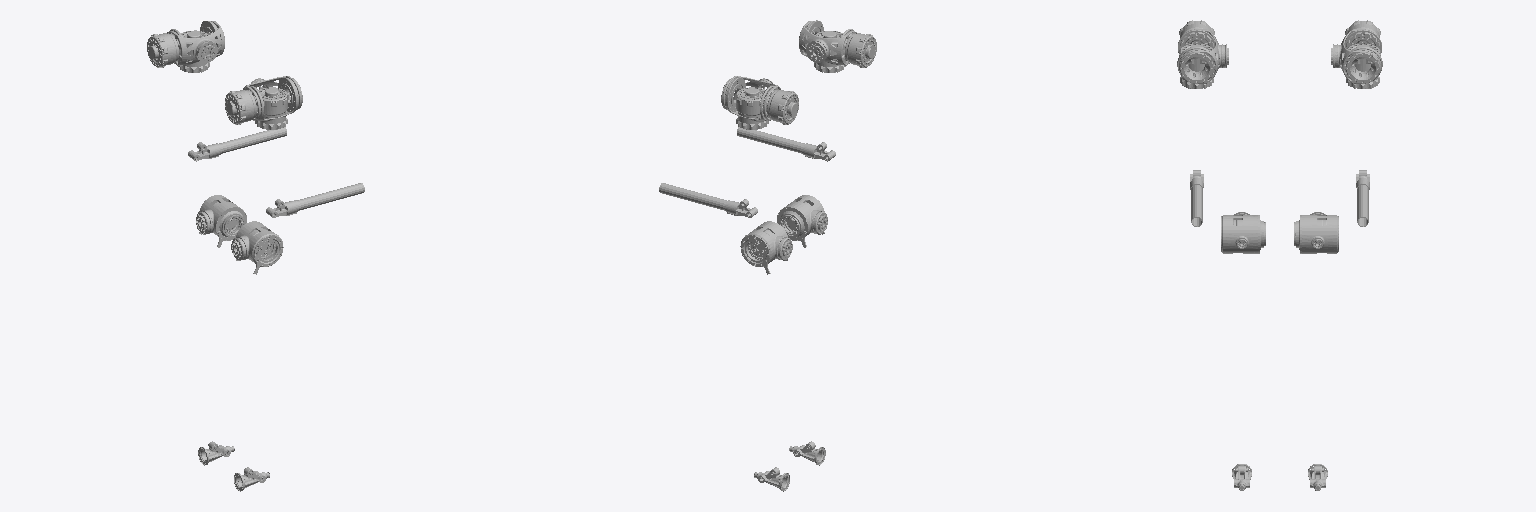
URDF robot description (bhr8_fc2):
<?xml version="1.0" encoding="utf-8"?>
<robot name="bhr8_fc2">
  <mujoco>
    <compiler meshdir="../meshes" balanceinertia="true" discardvisual="true" />
  </mujoco>
  <link name="torso">
    <inertial>
      <origin xyz="-0.012982 0.001904 0.240391" rpy="0 0 0" />
      <mass value="24.091719" />
      <inertia ixx="0.717329" ixy="0.001910" ixz="-0.031575" iyy="0.608806" iyz="0.004632" izz="0.242843" />
    </inertial>
    <visual>
      <origin xyz="0 0 0" rpy="0 0 0" />
      <geometry>
        <mesh filename="../meshes/torso.stl" />
      </geometry>
      <material name="">
        <color rgba="0.752941176470588 0.752941176470588 0.752941176470588 1" />
      </material>
    </visual>
    <collision>
      <origin xyz="0 0 0.25" rpy="0 0 0" />
      <geometry>
          <box size="0.3 0.28 0.56"/>
      </geometry>
    </collision>
  </link>
  <link name="rhip1">
    <inertial>
      <origin xyz="-0.078509 -0.0 -0.118031" rpy="0 0 0" />
      <mass value="2.589579" />
      <inertia ixx="0.006148" ixy="0.000001" ixz="0.003865" iyy="0.011987" iyz="0.000000" izz="0.008234" />
    </inertial>
    <visual>
      <origin xyz="0 0 0" rpy="0 0 0" />
      <geometry>
        <mesh filename="../meshes/rhip1.stl" />
      </geometry>
      <material name="">
        <color rgba="0.752941176470588 0.752941176470588 0.752941176470588 1" />
      </material>
    </visual>
    <!-- <collision> -->
    <!--   <origin xyz="-0.11 0 -0.14" rpy="0 1.57 0" /> -->
    <!--   <geometry> -->
    <!--     <cylinder radius="0.05" length="0.06"/> -->
    <!--   </geometry> -->
    <!-- </collision> -->
  </link>
  <joint name="rhipYaw" type="revolute">
    <origin xyz="0 -0.1 0.02324" rpy="0 0 0" />
    <parent link="torso" />
    <child link="rhip1" />
    <axis xyz="0 0 1" />
    <limit effort="100.0" velocity="100.0" lower="-3.14" upper="3.14"/>
  </joint>
  <link name="rhip2">
    <inertial>
      <origin xyz="0.051206 -0.002730 -0.000288" rpy="0 0 0" />
      <mass value="2.707088" />
      <inertia ixx="0.003451" ixy="-0.000024" ixz="0.000023" iyy="0.003613" iyz="0.000002" izz="0.004041" />
    </inertial>
    <visual>
      <origin xyz="0 0 0" rpy="0 0 0" />
      <geometry>
        <mesh filename="../meshes/rhip2.stl" />
      </geometry>
      <material name="">
        <color rgba="0.752941176470588 0.752941176470588 0.752941176470588 1" />
      </material>
    </visual>
    <!-- <collision> -->
    <!--   <origin xyz="0.05 0 0" rpy="1.57 0 0" /> -->
    <!--   <geometry> -->
    <!--    <cylinder radius="0.05" length="0.08"/> -->
    <!--   </geometry> -->
    <!-- </collision> -->
  </link>
  <joint name="rhipRoll" type="revolute">
    <origin xyz="-0.054 0 -0.13924" rpy="0 0 0" />
    <parent link="rhip1" />
    <child link="rhip2" />
    <axis xyz="1 0 0" />
    <limit effort="100.0" velocity="100.0" lower="-3.14" upper="3.14"/>
  </joint>
  <link name="rthigh">
    <inertial>
      <origin xyz="0.005701 -0.002335 -0.170006" rpy="0 0 0" />
      <mass value="3.596463" />
      <inertia ixx="0.043059" ixy="0.000136" ixz="0.000276" iyy="0.040946" iyz="-0.000548" izz="0.005837" />
    </inertial>
    <visual>
      <origin xyz="0 0 0" rpy="0 0 0" />
      <geometry>
        <mesh filename="../meshes/rthigh.stl" />
      </geometry>
      <material name="">
        <color rgba="0.752941176470588 0.752941176470588 0.752941176470588 1" />
      </material>
    </visual>
    <!-- <collision> -->
    <!--   <origin xyz="0 0 -0.23" rpy="0 0 0" /> -->
    <!--   <geometry> -->
    <!--     <box size="0.10 0.10 0.32"/> -->
    <!--   </geometry> -->
    <!-- </collision> -->
  </link>
  <joint name="rhipPitch" type="revolute">
    <origin xyz="0.055 -0.0001 0" rpy="0 0 0" />
    <parent link="rhip2" />
    <child link="rthigh" />
    <axis xyz="0 1 0" />
    <limit effort="100.0" velocity="100.0" lower="-3.14" upper="3.14"/>
  </joint>
  <link name="rcalf">
    <inertial>
      <origin xyz="0.003761 0.0 -0.143175" rpy="0 0 0" />
      <mass value="2.514266" />
      <inertia ixx="0.017616" ixy="0.000003" ixz="0.000476" iyy="0.017018" iyz="-0.000020" izz="0.002115" />
    </inertial>
    <visual>
      <origin xyz="0 0 0" rpy="0 0 0" />
      <geometry>
        <mesh filename="../meshes/rcalf.stl" />
      </geometry>
      <material name="">
        <color rgba="0.752941176470588 0.752941176470588 0.752941176470588 1" />
      </material>
    </visual>
    <!-- <collision> -->
    <!--   <origin xyz="0 0 -0.18" rpy="0 0 0" /> -->
    <!--   <geometry> -->
    <!--     <box size="0.08 0.08 0.20"/> -->
    <!--   </geometry> -->
    <!-- </collision> -->
  </link>
  <joint name="rknee" type="revolute">
    <origin xyz="0 0 -0.375" rpy="0 0 0" />
    <parent link="rthigh" />
    <child link="rcalf" />
    <axis xyz="0 1 0" />
    <limit effort="100.0" velocity="100.0" lower="-3.14" upper="3.14"/>
  </joint>
  <link name="rankle">
    <inertial>
      <origin xyz="-0.025377 0.000124 0.003585" rpy="0 0 0" />
      <mass value="0.139581" />
      <inertia ixx="0.000040" ixy="0.000000" ixz="-0.000004" iyy="0.000117" iyz="0.000000" izz="0.000111" />
    </inertial>
    <visual>
      <origin xyz="0 0 0" rpy="0 0 0" />
      <geometry>
        <mesh filename="../meshes/rankle.stl" />
      </geometry>
      <material name="">
        <color rgba="0.752941176470588 0.752941176470588 0.752941176470588 1" />
      </material>
    </visual>
    <!-- <collision>
      <origin xyz="-0.019 0 0" rpy="0 1.57 0" />
      <geometry>
        <cylinder radius="0.010" length="0.060"/>
      </geometry>
    </collision> -->
  </link>
  <joint name="rankle1" type="revolute">
    <origin xyz="0 0 -0.35" rpy="0 0 0" />
    <parent link="rcalf" />
    <child link="rankle" />
    <axis xyz="0 1 0" />
    <limit effort="100.0" velocity="100.0" lower="-3.14" upper="3.14"/>
  </joint>
  <link name="rfoot">
    <inertial>
      <origin xyz="-0.016884 0.000166 -0.054343" rpy="0 0 0" />
      <mass value="1.504448" />
      <inertia ixx="0.001293" ixy="0.000029" ixz="-0.000704" iyy="0.006196" iyz="0.000001" izz="0.006430" />
    </inertial>
    <visual>
      <origin xyz="0 0 0" rpy="0 0 0" />
      <geometry>
        <mesh filename="../meshes/rfoot.stl" />
      </geometry>
      <material name="">
        <color rgba="0.752941176470588 0.752941176470588 0.752941176470588 1" />
      </material>
    </visual>
    <!-- <collision>
      <origin xyz="-0.10 0.045 -0.078" rpy="0 0 0"/>
      <geometry>
        <sphere radius="0.007"/>
      </geometry>
    </collision>
    <collision>
      <origin xyz="-0.10 -0.045 -0.078" rpy="0 0 0"/>
      <geometry>
        <sphere radius="0.007"/>
      </geometry>
    </collision>
    <collision>
      <origin xyz="0.128 0.045 -0.078" rpy="0 0 0"/>
      <geometry>
        <sphere radius="0.007"/>
      </geometry>
    </collision>
    <collision>
      <origin xyz="0.128 -0.045 -0.078" rpy="0 0 0"/>
      <geometry>
        <sphere radius="0.007"/>
      </geometry>
    </collision> -->
    <collision>
      <origin xyz="0 0 0" rpy="0 0 0" />
      <geometry>
        <mesh filename="../meshes/rfoot.stl" />
      </geometry>
    </collision>
  </link>
  <joint name="rankle2" type="revolute">
    <origin xyz="0.031 0 0" rpy="0 0 0" />
    <parent link="rankle" />
    <child link="rfoot" />
    <axis xyz="1 0 0" />
    <limit effort="100.0" velocity="100.0" lower="-3.14" upper="3.14"/>
  </joint>
  <link name="lhip1">
    <inertial>
      <origin xyz="-0.078509 -0.0 -0.118031" rpy="0 0 0" />
      <mass value="2.589579" />
      <inertia ixx="0.006148" ixy="0.000001" ixz="0.003865" iyy="0.011987" iyz="0.000000" izz="0.008234" />
    </inertial>
    <visual>
      <origin xyz="0 0 0" rpy="0 0 0" />
      <geometry>
        <mesh filename="../meshes/lhip1.stl" />
      </geometry>
      <material name="">
        <color rgba="0.752941176470588 0.752941176470588 0.752941176470588 1" />
      </material>
    </visual>
    <!-- <collision> -->
    <!--   <origin xyz="-0.11 0 -0.14" rpy="0 1.57 0" /> -->
    <!--   <geometry> -->
    <!--     <cylinder radius="0.05" length="0.06"/> -->
    <!--   </geometry> -->
    <!-- </collision> -->
  </link>
  <joint name="lhipYaw" type="revolute">
    <origin xyz="0 0.1 0.02324" rpy="0 0 0" />
    <parent link="torso" />
    <child link="lhip1" />
    <axis xyz="0 0 1" />
    <limit effort="100.0" velocity="100.0" lower="-3.14" upper="3.14"/>
  </joint>
  <link name="lhip2">
    <inertial>
      <origin xyz="0.051206 0.002733 -0.000280" rpy="0 0 0" />
      <mass value="2.707222" />
      <inertia ixx="0.003451" ixy="0.000024" ixz="0.000023" iyy="0.003613" iyz="-0.000003" izz="0.004041" />
    </inertial>
    <visual>
      <origin xyz="0 0 0" rpy="0 0 0" />
      <geometry>
        <mesh filename="../meshes/lhip2.stl" />
      </geometry>
      <material name="">
        <color rgba="0.752941176470588 0.752941176470588 0.752941176470588 1" />
      </material>
    </visual>
    <!-- <collision> -->
    <!--   <origin xyz="0.05 0 0" rpy="1.57 0 0" /> -->
    <!--   <geometry> -->
    <!--    <cylinder radius="0.05" length="0.08"/> -->
    <!--   </geometry> -->
    <!-- </collision> -->
  </link>
  <joint name="lhipRoll" type="revolute">
    <origin xyz="-0.054 0 -0.13924" rpy="0 0 0" />
    <parent link="lhip1" />
    <child link="lhip2" />
    <axis xyz="1 0 0" />
    <limit effort="100.0" velocity="100.0" lower="-3.14" upper="3.14"/>
  </joint>
  <link name="lthigh">
    <inertial>
      <origin xyz="0.004804 0.002343 -0.169952" rpy="0 0 0" />
      <mass value="3.596463" />
      <inertia ixx="0.043050" ixy="-0.000129" ixz="0.000379" iyy="0.040839" iyz="0.000543" izz="0.005739" />
    </inertial>
    <visual>
      <origin xyz="0 0 0" rpy="0 0 0" />
      <geometry>
        <mesh filename="../meshes/lthigh.stl" />
      </geometry>
      <material name="">
        <color rgba="0.752941176470588 0.752941176470588 0.752941176470588 1" />
      </material>
    </visual>
    <!-- <collision> -->
    <!--   <origin xyz="0 0 -0.23" rpy="0 0 0" /> -->
    <!--   <geometry> -->
    <!--     <box size="0.10 0.10 0.32"/> -->
    <!--   </geometry> -->
    <!-- </collision> -->
  </link>
  <joint name="lhipPitch" type="revolute">
    <origin xyz="0.055 0.0 0" rpy="0 0 0" />
    <parent link="lhip2" />
    <child link="lthigh" />
    <axis xyz="0 1 0" />
    <limit effort="100.0" velocity="100.0" lower="-3.14" upper="3.14"/>
  </joint>
  <link name="lcalf">
    <inertial>
      <origin xyz="0.003757 -0.000290 -0.143175" rpy="0 0 0" />
      <mass value="2.514266" />
      <inertia ixx="0.017616" ixy="0.000000" ixz="0.000476" iyy="0.017019" iyz="0.000022" izz="0.002115" />
    </inertial>
    <visual>
      <origin xyz="0 0 0" rpy="0 0 0" />
      <geometry>
        <mesh filename="../meshes/lcalf.stl" />
      </geometry>
      <material name="">
        <color rgba="0.752941176470588 0.752941176470588 0.752941176470588 1" />
      </material>
    </visual>
    <!-- <collision> -->
    <!--   <origin xyz="0 0 -0.18" rpy="0 0 0" /> -->
    <!--   <geometry> -->
    <!--     <box size="0.08 0.08 0.20"/> -->
    <!--   </geometry> -->
    <!-- </collision> -->
  </link>
  <joint name="lknee" type="revolute">
    <origin xyz="0 0 -0.375" rpy="0 0 0" />
    <parent link="lthigh" />
    <child link="lcalf" />
    <axis xyz="0 1 0" />
    <limit effort="100.0" velocity="100.0" lower="-3.14" upper="3.14"/>
  </joint>
  <link name="lankle">
    <inertial>
      <origin xyz="-0.025377 0.000124 0.003585" rpy="0 0 0" />
      <mass value="0.139581" />
      <inertia ixx="0.000040" ixy="0.000000" ixz="-0.000004" iyy="0.000117" iyz="0.000000" izz="0.000111" />
    </inertial>
    <visual>
      <origin xyz="0 0 0" rpy="0 0 0" />
      <geometry>
        <mesh filename="../meshes/lankle.stl" />
      </geometry>
      <material name="">
        <color rgba="0.752941176470588 0.752941176470588 0.752941176470588 1" />
      </material>
    </visual>
    <!-- <collision>
      <origin xyz="0 0 0" rpy="0 0 0" />
      <geometry>
        <mesh filename="../meshes/lankle.stl" />
      </geometry>
    </collision> -->
  </link>
  <joint name="lankle1" type="revolute">
    <origin xyz="0 0 -0.35" rpy="0 0 0" />
    <parent link="lcalf" />
    <child link="lankle" />
    <axis xyz="0 1 0" />
    <limit effort="100.0" velocity="100.0" lower="-3.14" upper="3.14"/>
  </joint>
  <link name="lfoot">
    <inertial>
      <origin xyz="-0.016876 -0.000173 -0.054342" rpy="0 0 0" />
      <mass value="1.504345" />
      <inertia ixx="0.001293" ixy="-0.000028" ixz="-0.000704" iyy="0.006195" iyz="0.000000" izz="0.006430" />
    </inertial>
    <visual>
      <origin xyz="0 0 0" rpy="0 0 0" />
      <geometry>
        <mesh filename="../meshes/lfoot.stl" />
      </geometry>
      <material name="">
        <color rgba="0.752941176470588 0.752941176470588 0.752941176470588 1" />
      </material>
    </visual>
    <!-- <collision>
      <origin xyz="-0.10 0.045 -0.078" rpy="0 0 0"/>
      <geometry>
        <sphere radius="0.007"/>
      </geometry>
    </collision>
    <collision>
      <origin xyz="-0.10 -0.045 -0.078" rpy="0 0 0"/>
      <geometry>
        <sphere radius="0.007"/>
      </geometry>
    </collision>
    <collision>
      <origin xyz="0.128 0.045 -0.078" rpy="0 0 0"/>
      <geometry>
        <sphere radius="0.007"/>
      </geometry>
    </collision>
    <collision>
      <origin xyz="0.128 -0.045 -0.078" rpy="0 0 0"/>
      <geometry>
        <sphere radius="0.007"/>
      </geometry>
    </collision> -->
    <collision>
      <origin xyz="0 0 0" rpy="0 0 0" />
      <geometry>
        <mesh filename="../meshes/lfoot.stl" />
      </geometry>
    </collision>
  </link>
  <joint name="lankle2" type="revolute">
    <origin xyz="0.031 0 0" rpy="0 0 0" />
    <parent link="lankle" />
    <child link="lfoot" />
    <axis xyz="1 0 0" />
    <limit effort="100.0" velocity="100.0" lower="-3.14" upper="3.14"/>
  </joint>
  <link name="rshoulder1">
    <inertial>
      <origin xyz="-0.072957 -0.077869 0.0" rpy="0 0 0" />
      <mass value="1.938195" />
      <inertia ixx="0.002538" ixy="0.000898" ixz="-0.000001" iyy="0.006956" iyz="0.000000" izz="0.007542" />
    </inertial>
    <visual>
      <origin xyz="0 0 0" rpy="0 0 0" />
      <geometry>
        <mesh filename="../meshes/rshoulder1.stl" />
      </geometry>
      <material name="">
        <color rgba="0.752941176470588 0.752941176470588 0.752941176470588 1" />
      </material>
    </visual>
    <!-- <collision> -->
    <!--   <origin xyz="-0.11 -0.08 0" rpy="0 1.57 0" /> -->
    <!--   <geometry> -->
    <!--     <cylinder radius="0.047" length="0.07"/> -->
    <!--   </geometry> -->
    <!-- </collision> -->
  </link>
  <joint name="rshoulderPitch" type="revolute">
    <origin xyz="-0.02625 -0.13476 0.389" rpy="0 0 0" />
    <parent link="torso" />
    <child link="rshoulder1" />
    <axis xyz="0 -1 0" />
    <limit effort="100.0" velocity="100.0" lower="-3.14" upper="3.14"/>
  </joint>
  <link name="rshoulder2">
    <inertial>
      <origin xyz="0.051 0.0 -0.017501" rpy="0 0 0" />
      <mass value="2.116461" />
      <inertia ixx="0.002659" ixy="0.000000" ixz="0.000079" iyy="0.003457" iyz="0.000000" izz="0.003122" />
    </inertial>
    <visual>
      <origin xyz="0 0 0" rpy="0 0 0" />
      <geometry>
        <mesh filename="../meshes/rshoulder2.stl" />
      </geometry>
      <material name="">
        <color rgba="0.752941176470588 0.752941176470588 0.752941176470588 1" />
      </material>
    </visual>
    <!-- <collision> -->
    <!--   <origin xyz="0.05 0 0" rpy="0 0 0" /> -->
    <!--   <geometry> -->
    <!--     <cylinder radius="0.047" length="0.07"/> -->
    <!--   </geometry> -->
    <!-- </collision> -->
  </link>
  <joint name="rshoulderRoll" type="revolute">
    <origin xyz="-0.049 -0.08424 0" rpy="0 0 0" />
    <parent link="rshoulder1" />
    <child link="rshoulder2" />
    <axis xyz="1 0 0" />
    <limit effort="100.0" velocity="100.0" lower="-3.14" upper="3.14"/>
  </joint>
  <link name="rbigarm">
    <inertial>
      <origin xyz="0.002752 0.00 -0.123717" rpy="0 0 0" />
      <mass value="2.503058" />
      <inertia ixx="0.012105" ixy="0.000000" ixz="-0.000652" iyy="0.011971" iyz="0.000000" izz="0.001265" />
    </inertial>
    <visual>
      <origin xyz="0 0 0" rpy="0 0 0" />
      <geometry>
        <mesh filename="../meshes/rbigarm.stl" />
      </geometry>
      <material name="">
        <color rgba="0.752941176470588 0.752941176470588 0.752941176470588 1" />
      </material>
    </visual>
    <!-- <collision> -->
    <!--   <origin xyz="0 0 -0.15" rpy="0 0 0" /> -->
    <!--   <geometry> -->
    <!--     <cylinder radius="0.042" length="0.2"/> -->
    <!--   </geometry> -->
    <!-- </collision> -->
  </link>
  <joint name="rshoulderYaw" type="revolute">
    <origin xyz="0.049 0 -0.05" rpy="0 0 0" />
    <parent link="rshoulder2" />
    <child link="rbigarm" />
    <axis xyz="0 0 1" />
    <limit effort="100.0" velocity="100.0" lower="-3.14" upper="3.14"/>
  </joint>
  <link name="rforearm">
    <inertial>
      <origin xyz="0.002409 0.01 -0.09" rpy="0 0 0" />
      <mass value="0.381283" />
      <inertia ixx="0.001368" ixy="0.000000" ixz="0.000029" iyy="0.001374" iyz="0.000000" izz="0.000040" />
    </inertial>
    <visual>
      <origin xyz="0 0 0" rpy="0 0 0" />
      <geometry>
        <mesh filename="../meshes/rforearm.stl" />
      </geometry>
      <material name="">
        <color rgba="0.752941176470588 0.752941176470588 0.752941176470588 1" />
      </material>
    </visual>
    <!-- <collision> -->
    <!--   <origin xyz="0 0 -0.15" rpy="0 0 0" /> -->
    <!--   <geometry> -->
    <!--     <cylinder radius="0.018" length="0.25"/> -->
    <!--   </geometry> -->
    <!-- </collision> -->
  </link>
  <joint name="relbow" type="revolute">
    <origin xyz="0 -0.01 -0.30324" rpy="0 -1.6 0" />
    <parent link="rbigarm" />
    <child link="rforearm" />
    <axis xyz="0 -1 0" />
    <limit effort="100.0" velocity="100.0" lower="-3.14" upper="3.14"/>
  </joint>
  <link name="lshoulder1">
    <inertial>
      <origin xyz="-0.072957 0.077869 -0.0000" rpy="0 0 0" />
      <mass value="1.938195" />
      <inertia ixx="0.002538" ixy="-0.000898" ixz="0.000001" iyy="0.006956" iyz="0.000000" izz="0.007542" />
    </inertial>
    <visual>
      <origin xyz="0 0 0" rpy="0 0 0" />
      <geometry>
        <mesh filename="../meshes/lshoulder1.stl" />
      </geometry>
      <material name="">
        <color rgba="0.752941176470588 0.752941176470588 0.752941176470588 1" />
      </material>
    </visual>
    <!-- <collision> -->
    <!--   <origin xyz="-0.11 0.08 0" rpy="0 1.57 0" /> -->
    <!--   <geometry> -->
    <!--     <cylinder radius="0.047" length="0.07"/> -->
    <!--   </geometry> -->
    <!-- </collision> -->
  </link>
  <joint name="lshoulderPitch" type="revolute">
    <origin xyz="-0.02625 0.13476 0.389" rpy="0 0 0" />
    <parent link="torso" />
    <child link="lshoulder1" />
    <axis xyz="0 1 0" />
    <limit effort="100.0" velocity="100.0" lower="-3.14" upper="3.14"/>
  </joint>
  <link name="lshoulder2">
    <inertial>
      <origin xyz="0.051 0.00 -0.017501" rpy="0 0 0" />
      <mass value="2.116461" />
      <inertia ixx="0.002659" ixy="0.000000" ixz="0.000079" iyy="0.003457" iyz="0.000000" izz="0.003122" />
    </inertial>
    <visual>
      <origin xyz="0 0 0" rpy="0 0 0" />
      <geometry>
        <mesh filename="../meshes/lshoulder2.stl" />
      </geometry>
      <material name="">
        <color rgba="0.752941176470588 0.752941176470588 0.752941176470588 1" />
      </material>
    </visual>
    <!-- <collision> -->
    <!--   <origin xyz="0.05 0 0" rpy="0 0 0" /> -->
    <!--   <geometry> -->
    <!--     <cylinder radius="0.047" length="0.07"/> -->
    <!--   </geometry> -->
    <!-- </collision> -->
  </link>
  <joint name="lshoulderRoll" type="revolute">
    <origin xyz="-0.049 0.08424 0" rpy="0 0 0" />
    <parent link="lshoulder1" />
    <child link="lshoulder2" />
    <axis xyz="1 0 0" />
    <limit effort="100.0" velocity="100.0" lower="-3.14" upper="3.14"/>
  </joint>
  <link name="lbigarm">
    <inertial>
      <origin xyz="0.002752 0. -0.123717" rpy="0 0 0" />
      <mass value="2.503058" />
      <inertia ixx="0.012105" ixy="0.000000" ixz="-0.000652" iyy="0.011971" iyz="0.000000" izz="0.001265" />
    </inertial>
    <visual>
      <origin xyz="0 0 0" rpy="0 0 0" />
      <geometry>
        <mesh filename="../meshes/lbigarm.stl" />
      </geometry>
      <material name="">
        <color rgba="0.752941176470588 0.752941176470588 0.752941176470588 1" />
      </material>
    </visual>
    <!-- <collision> -->
    <!--   <origin xyz="0 0 -0.15" rpy="0 0 0" /> -->
    <!--   <geometry> -->
    <!--     <cylinder radius="0.042" length="0.2"/> -->
    <!--   </geometry> -->
    <!-- </collision> -->
  </link>
  <joint name="lshoulderYaw" type="revolute">
    <origin xyz="0.049 0 -0.05" rpy="0 0 0" />
    <parent link="lshoulder2" />
    <child link="lbigarm" />
    <axis xyz="0 0 1" />
    <limit effort="100.0" velocity="100.0" lower="-3.14" upper="3.14"/>
  </joint>
  <link name="lforearm">
    <inertial>
      <origin xyz="0.0024 -0.01 -0.09" rpy="0 0 0" />
      <mass value="0.381283" />
      <inertia ixx="0.001368" ixy="0.000000" ixz="0.000029" iyy="0.001374" iyz="0.000000" izz="0.000040" />
    </inertial>
    <visual>
      <origin xyz="0 0 0" rpy="0 0 0" />
      <geometry>
        <mesh filename="../meshes/lforearm.stl" />
      </geometry>
      <material name="">
        <color rgba="0.752941176470588 0.752941176470588 0.752941176470588 1" />
      </material>
    </visual>
    <!-- <collision> -->
    <!--   <origin xyz="0 0 -0.15" rpy="0 0 0" /> -->
    <!--   <geometry> -->
    <!--     <cylinder radius="0.018" length="0.25"/> -->
    <!--   </geometry> -->
    <!-- </collision> -->
  </link>
  <joint name="lelbow" type="revolute">
    <origin xyz="0 0.01 -0.30324" rpy="0 -1.6 0" />
    <parent link="lbigarm" />
    <child link="lforearm" />
    <axis xyz="0 1 0" />
    <limit effort="100.0" velocity="100.0" lower="-3.14" upper="3.14"/>
  </joint>
</robot>


--- What the picture shows (computed from the rendered views, not written in the file) ---
The picture shows the robot from 3 angles, left to right: view 1: azimuth 30°, elevation 25°; view 2: azimuth 150°, elevation 25°; view 3: azimuth 270°, elevation 25°; orthographic projection.
Model bhr8_fc2 with 21 links and 20 joints (20 revolute), rooted at torso, posed all joints at 0.
Visible links, largest first — view 1: lshoulder1, rhip2, lhip2, rshoulder1, rshoulder2, rforearm, lforearm, lshoulder2; view 2: rshoulder1, lhip2, rhip2, lshoulder1, lshoulder2, lforearm, rforearm, rshoulder2; view 3: rhip2, lhip2, lshoulder1, rshoulder1, rshoulder2, lshoulder2, rforearm, lforearm.
Link boxes in pixels (x1,y1,x2,y2): lshoulder1: (147, 21, 224, 67); rhip2: (231, 221, 283, 274); lhip2: (196, 195, 246, 247); rshoulder1: (225, 76, 302, 124); rshoulder2: (249, 77, 298, 129); rforearm: (266, 183, 364, 217); lforearm: (188, 127, 286, 161); lshoulder2: (170, 21, 220, 72); rshoulder1: (799, 21, 876, 67); lhip2: (740, 221, 792, 274); rhip2: (777, 195, 827, 247); lshoulder1: (721, 76, 798, 124); lshoulder2: (725, 77, 774, 129); lforearm: (659, 183, 757, 217); rforearm: (737, 127, 835, 161); rshoulder2: (803, 20, 853, 72); rhip2: (1221, 212, 1265, 253); lhip2: (1294, 212, 1338, 253); lshoulder1: (1331, 20, 1380, 83); rshoulder1: (1179, 20, 1228, 83); rshoulder2: (1177, 30, 1214, 88); lshoulder2: (1345, 30, 1382, 88); rforearm: (1190, 170, 1203, 226); lforearm: (1356, 170, 1369, 226).
Bounding box of the posed robot: 0.4334 × 0.5422 × 1.31 m (x, y, z).
Meshes: 21 distinct files referenced, 10 mesh visuals loaded (10 binary STL); not drawn: 11 (reference not matched to a file when rendering).